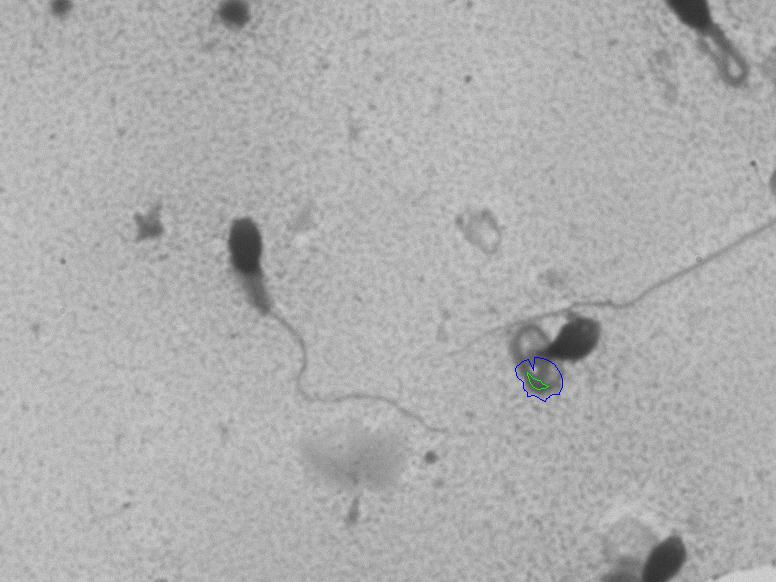Abnormal: (200, 197, 451, 468)
